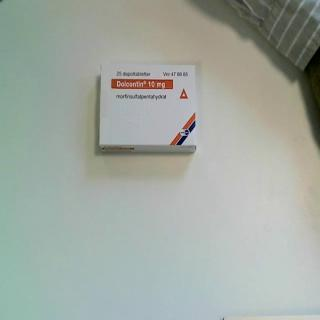dolcontin10mg: (98, 60, 198, 156)
